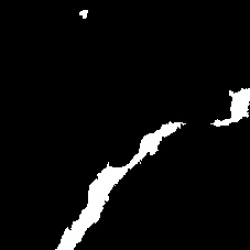crack: (55, 120, 192, 247), (207, 87, 249, 130)
pinhole: (74, 7, 91, 22)
